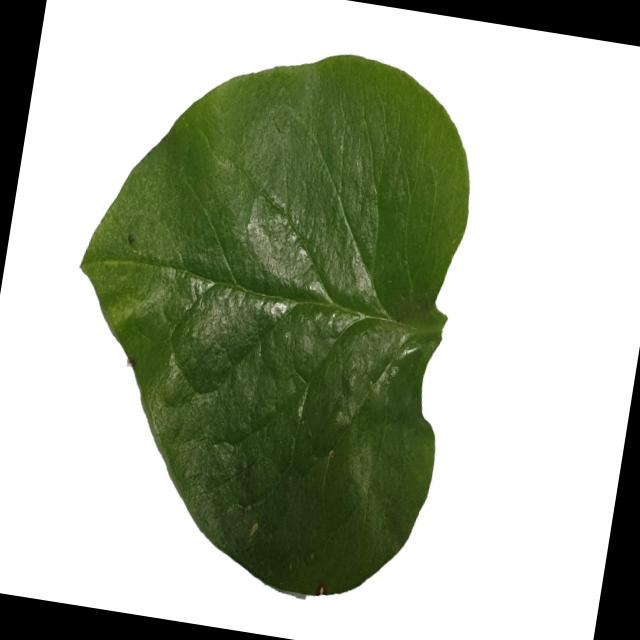Medicinal-Basale: (35, 16, 498, 612)
